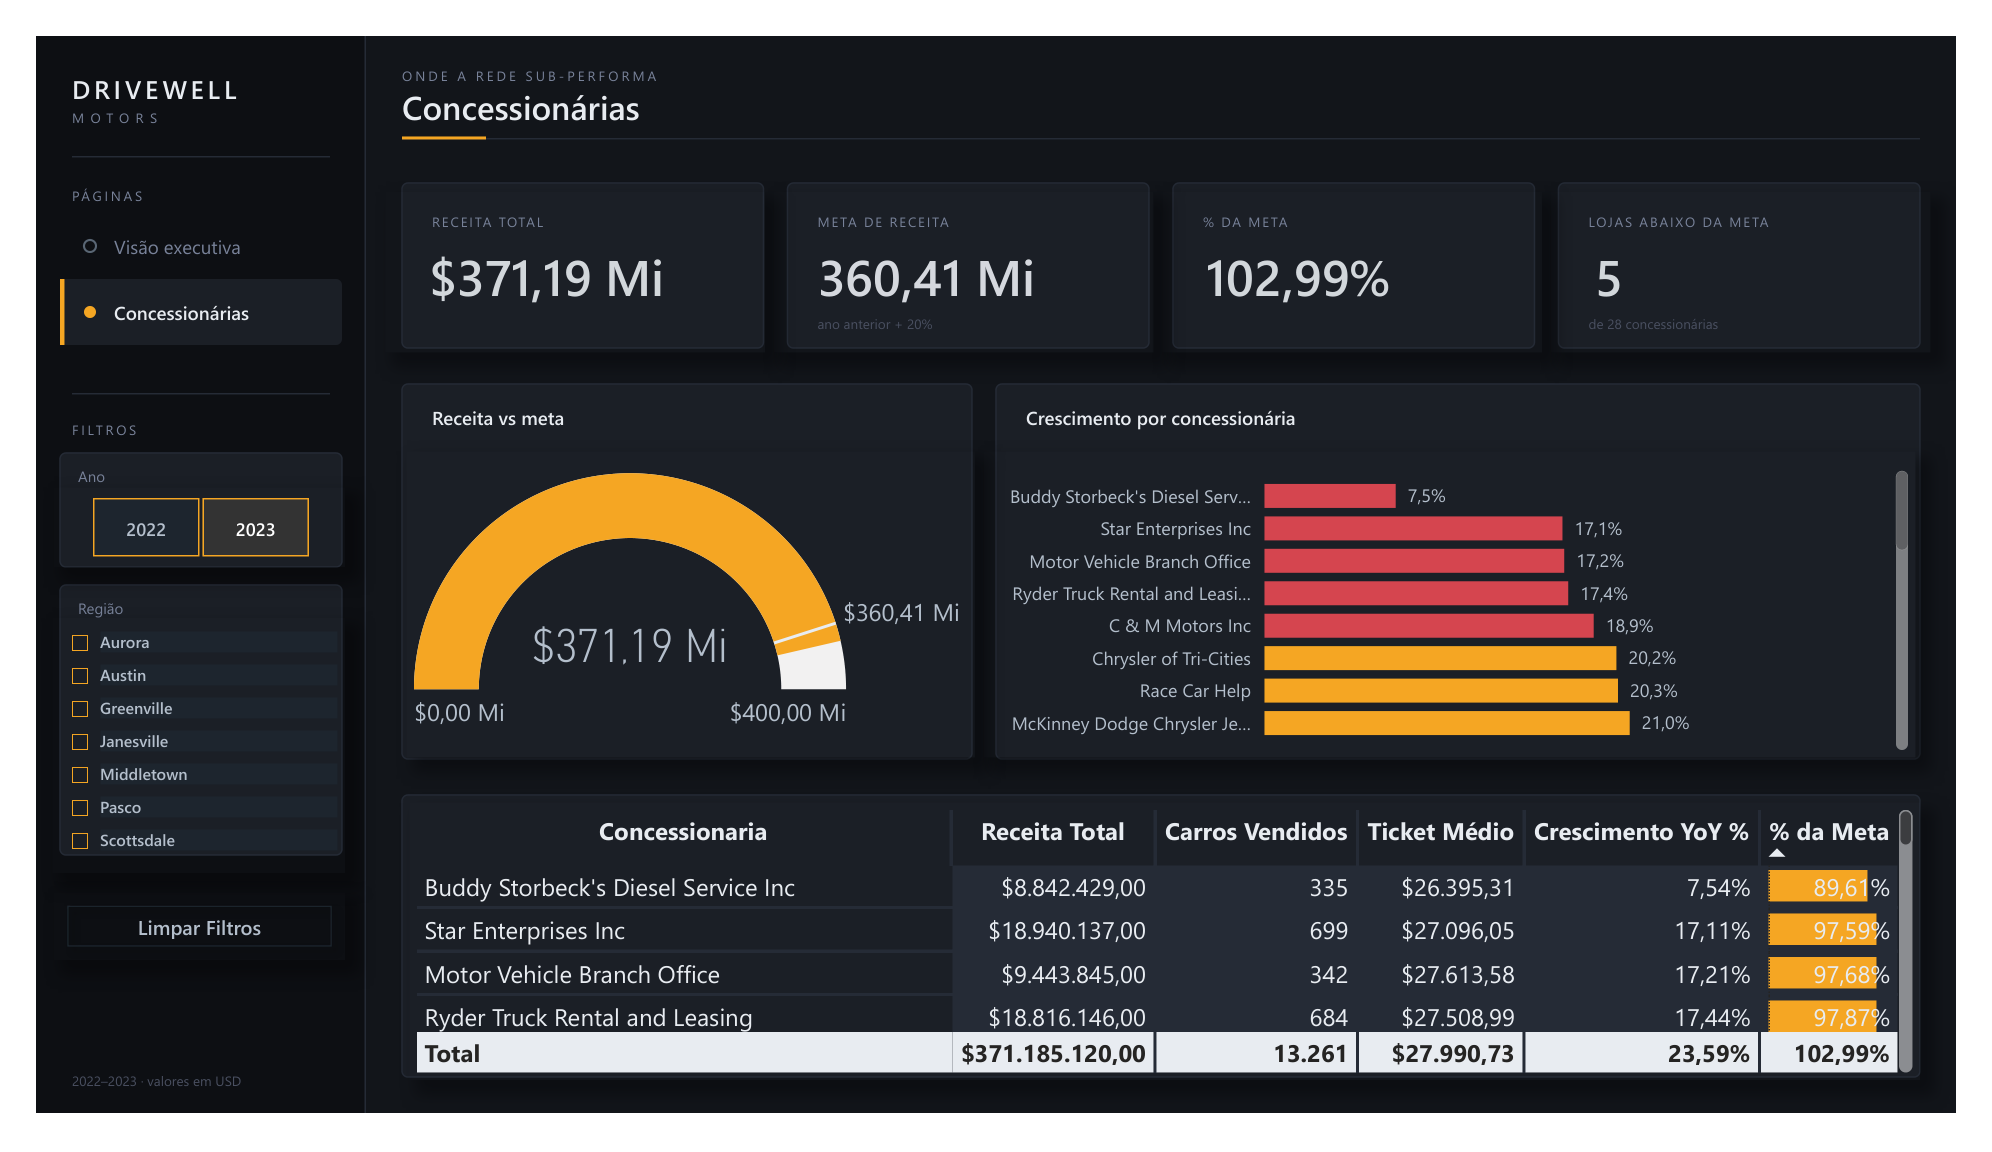

The dashboard page shown, as its layout file describes it:
{"tool":"powerbi","page":{"name":"Concessionárias","canvas":[1280,720],"ordinal":1},"visuals":[{"type":"shape","box":[260,518.7,160.7,18.7],"z":0},{"type":"cardVisual","fields":{"Data":["_Medidas.Receita Total"]},"box":[232.5,103.8,253.1,106.9],"z":1000},{"type":"cardVisual","fields":{"Data":["_Medidas.Meta Receita"]},"box":[492.1,103.6,252.9,107.1],"z":2000},{"type":"cardVisual","fields":{"Data":["_Medidas.% da Meta"]},"box":[751.4,103.6,252.9,107.1],"z":3000},{"type":"cardVisual","fields":{"Data":["_Medidas.Lojas Abaixo da Meta"]},"box":[1010,103.6,252.9,107.1],"z":4000},{"type":"slicer","fields":{"Values":["dCalendario.Ano"]},"box":[11.8,300.9,194.5,52.7],"z":5000},{"type":"slicer","fields":{"Values":["fVendas.Região"]},"box":[11.4,387.9,194.3,170],"z":6000},{"type":"gauge","fields":{"Y":["_Medidas.Receita Total"],"TargetValue":["_Medidas.Meta Receita"]},"box":[246.7,276.7,379.2,204.2],"z":7000},{"type":"clusteredBarChart","fields":{"Category":["dConcessionaria.Concessionaria"],"Y":["_Medidas.Crescimento YoY %"]},"box":[631.7,276.7,621.7,204.2],"z":8000},{"type":"pivotTable","fields":{"Rows":["dConcessionaria.Concessionaria"],"Values":["_Medidas.Receita Total","_Medidas.Carros Vendidos","_Medidas.Ticket Médio","_Medidas.Crescimento YoY %","_Medidas.% da Meta"]},"box":[248.7,511.3,1007.3,184.7],"z":9000},{"type":"actionButton","box":[11.9,117.5,194.4,45.6],"z":10000},{"type":"actionButton","box":[11.9,163.1,194.4,45.6],"z":11000},{"type":"actionButton","box":[12.1,570.7,194.3,45.7],"z":12000}]}

Visuals, with their boxes on the page's 1280x720 design canvas (x1, y1, x2, y2). These are canvas units, not pixel positions in the 1992x1152 screenshot, which may show the page scaled, cropped or inside an application window:
shape: 260/519/421/537
cardVisual - _Medidas.Receita Total: 232/104/486/211
cardVisual - _Medidas.Meta Receita: 492/104/745/211
cardVisual - _Medidas.% da Meta: 751/104/1004/211
cardVisual - _Medidas.Lojas Abaixo da Meta: 1010/104/1263/211
slicer - dCalendario.Ano: 12/301/206/354
slicer - fVendas.Região: 11/388/206/558
gauge - _Medidas.Receita Total x _Medidas.Meta Receita: 247/277/626/481
clusteredBarChart - dConcessionaria.Concessionaria x _Medidas.Crescimento YoY %: 632/277/1253/481
pivotTable - dConcessionaria.Concessionaria x _Medidas.Receita Total: 249/511/1256/696
actionButton: 12/118/206/163
actionButton: 12/163/206/209
actionButton: 12/571/206/616
